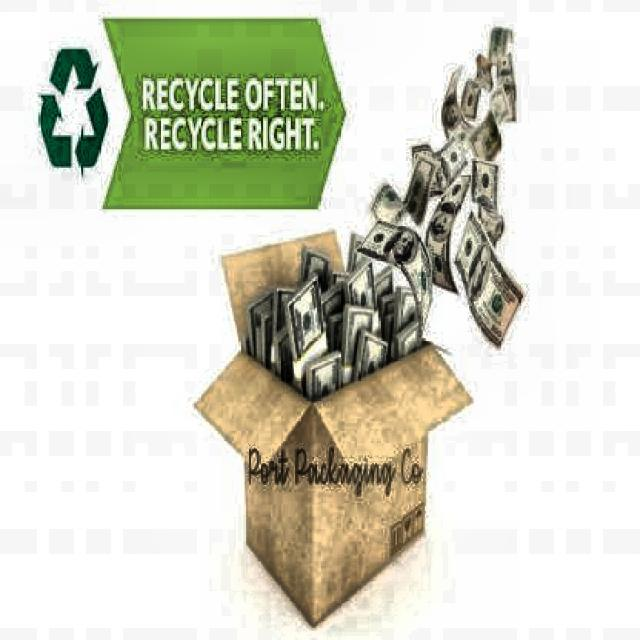Cardbox: (164, 225, 471, 604)
